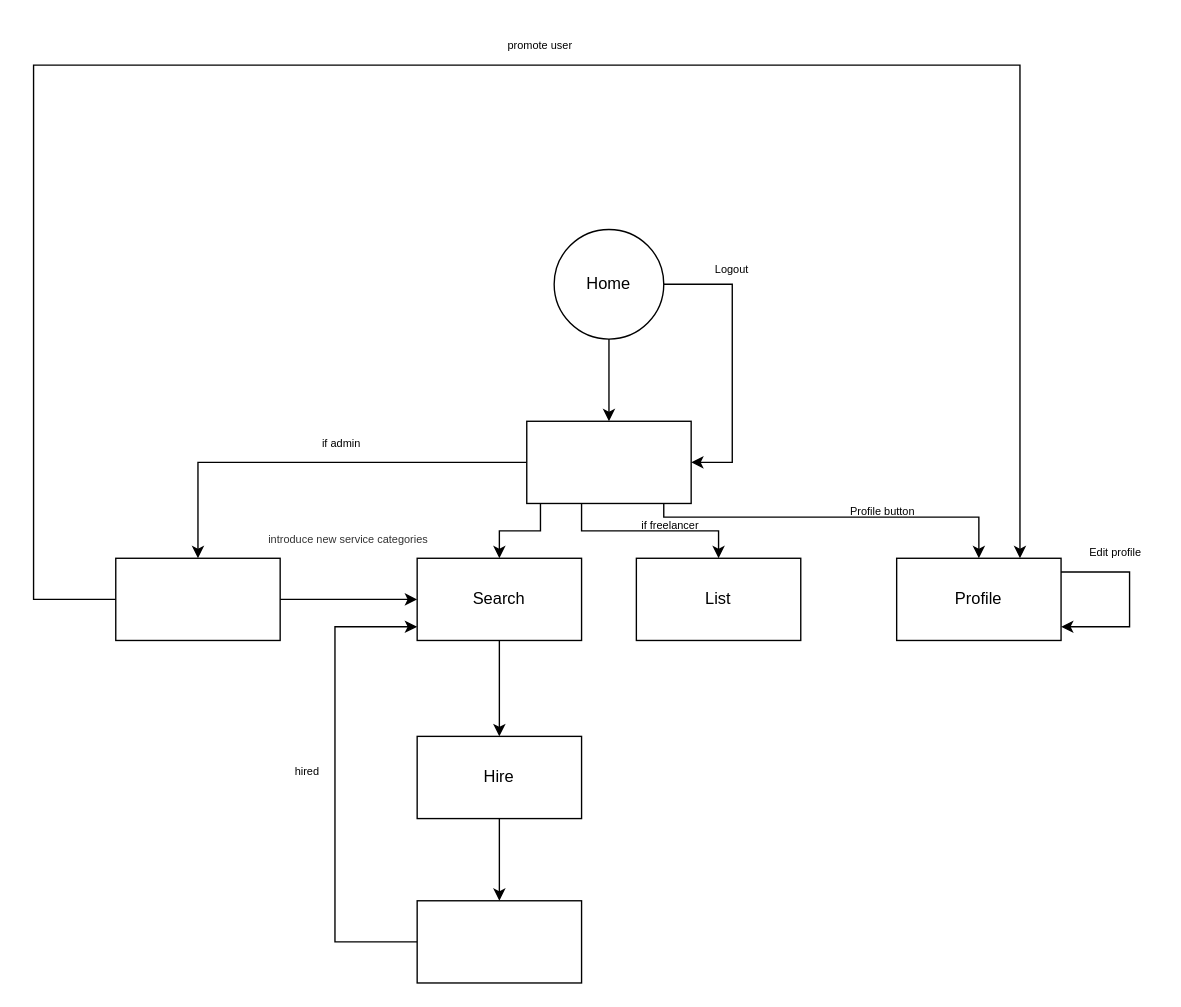
Image size: 1181x1007. Some labels were removed from this diagram. Here are the shapes that lost their labels. From the top down, the box of each, then its label:
(525, 420, 691, 503): Login
(114, 557, 280, 640): System settings
(416, 899, 582, 983): Checkout
